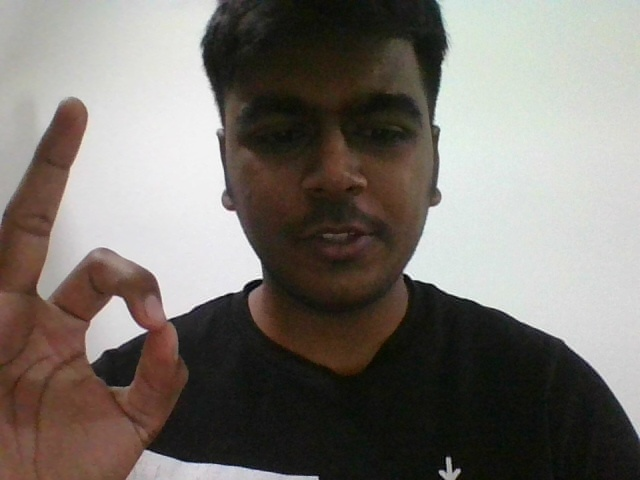ok: (2, 98, 188, 469)
